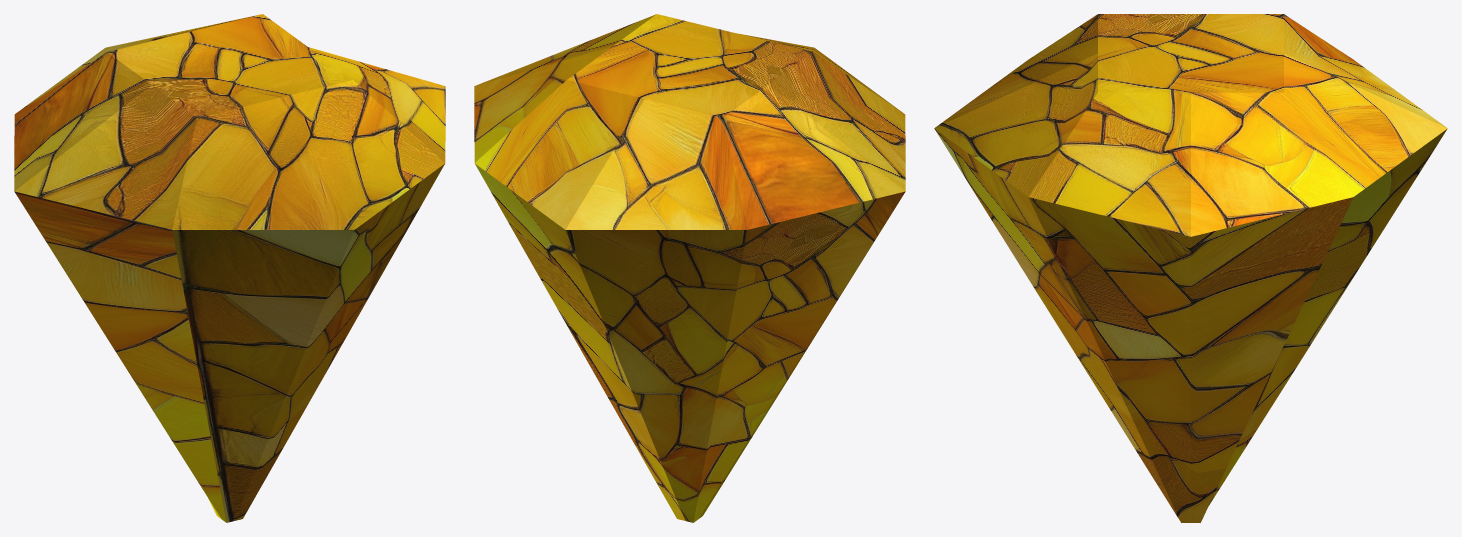
The model's file is gemstone3Yellow.glb.
The picture shows the model from 3 angles, left to right: view 1: azimuth 30°, elevation 25°; view 2: azimuth 150°, elevation 25°; view 3: azimuth 270°, elevation 25°; orthographic projection. The views are drawn at different scales.
Parts seen in each view (by area): view 1: gemstone2; view 2: gemstone2; view 3: gemstone2.
Boxes of the visible parts, <box> form: gemstone2: <box>14,14,445,522</box>; gemstone2: <box>474,14,905,522</box>; gemstone2: <box>934,14,1447,522</box>.
Bounding box in the file's own units: 1 × 1 × 1.
1 material, 1 textured.
